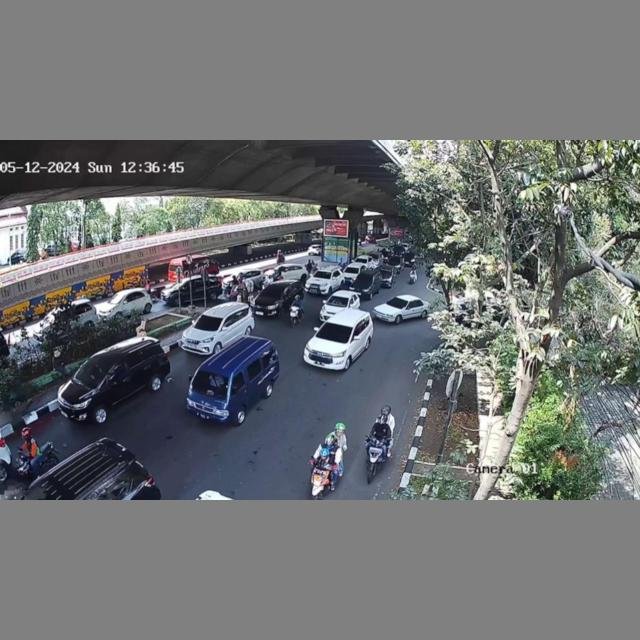windshield: (189, 368, 231, 399), (316, 321, 353, 349), (191, 314, 223, 332)
